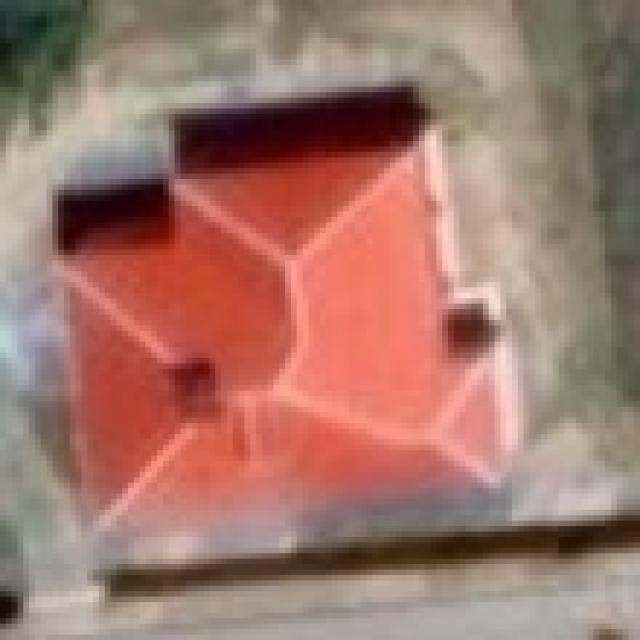Batiment: (59, 90, 511, 557)
